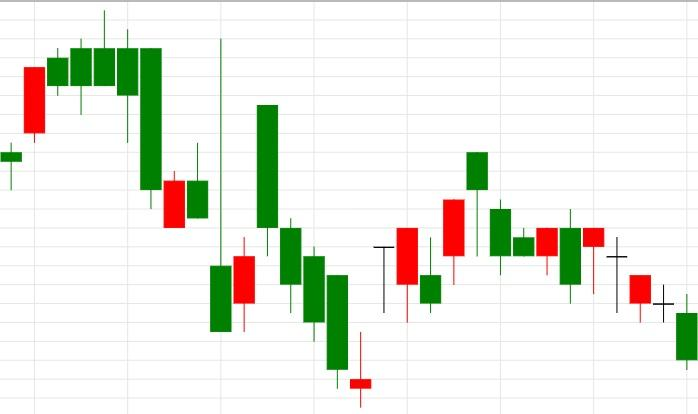hammer_rise: (466, 150, 605, 304)
inverse_hammer_rise: (94, 10, 233, 333)
